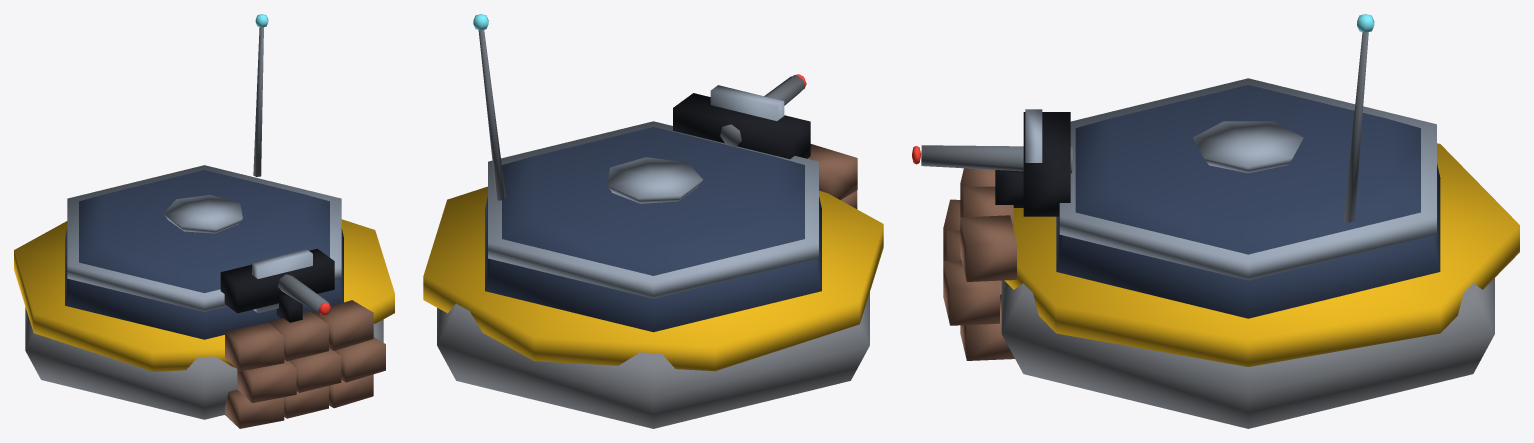
Rendered from unit_human_bunker.obj.
The picture shows the model from 3 angles, left to right: view 1: azimuth 30°, elevation 25°; view 2: azimuth 150°, elevation 25°; view 3: azimuth 270°, elevation 25°; orthographic projection. The views are drawn at different scales.
Parts seen in each view (by area): view 1: Body, SandbagRow, Base, Band, Slit, Bag_2_0, RoofHatch, Bag_1_0, Bag_2_2, Bag_2_1, Bag_1_1, Bag_0_0 (+7 smaller); view 2: Body, SandbagRow, Base, Band, Slit, RoofHatch, Bag_2_0, GunShield, Antenna, Gun; view 3: Body, SandbagRow, Base, Band, RoofHatch, Slit, Bag_2_2, Bag_1_2, Gun, Antenna, Bag_0_2, Bag_2_1 (+4 smaller).
Boxes of the visible parts, x1,y1,x2,y2 form: Body: (65,170,343,339); SandbagRow: (14,219,394,371); Base: (25,307,383,419); Band: (67,165,341,311); Slit: (220,248,334,313); Bag_2_0: (225,322,284,371); RoofHatch: (163,195,242,233); Bag_1_0: (237,360,296,402); Bag_2_2: (312,300,373,350); Bag_2_1: (268,311,328,361); Bag_1_1: (289,348,341,392); Bag_0_0: (225,389,284,428); Body: (485,127,821,332); SandbagRow: (423,186,883,371); Base: (437,292,869,428); Band: (488,121,818,298); Slit: (673,93,810,159); RoofHatch: (607,157,703,203); Bag_2_0: (807,144,857,199); GunShield: (710,85,784,120); Antenna: (478,30,505,200); Gun: (720,75,804,146); Body: (1056,85,1440,318); SandbagRow: (1004,143,1519,366); Base: (1001,278,1494,428); Band: (1059,78,1436,280); RoofHatch: (1193,121,1303,173); Slit: (1023,112,1070,216); Bag_2_2: (960,215,1016,281); Bag_1_2: (943,260,999,325); Gun: (921,145,1072,173); Antenna: (1343,32,1368,222); Bag_0_2: (960,294,1014,360); Bag_2_1: (963,186,1013,228).
Size of the model in its own units: 3.4 by 2.45 by 3.63.
